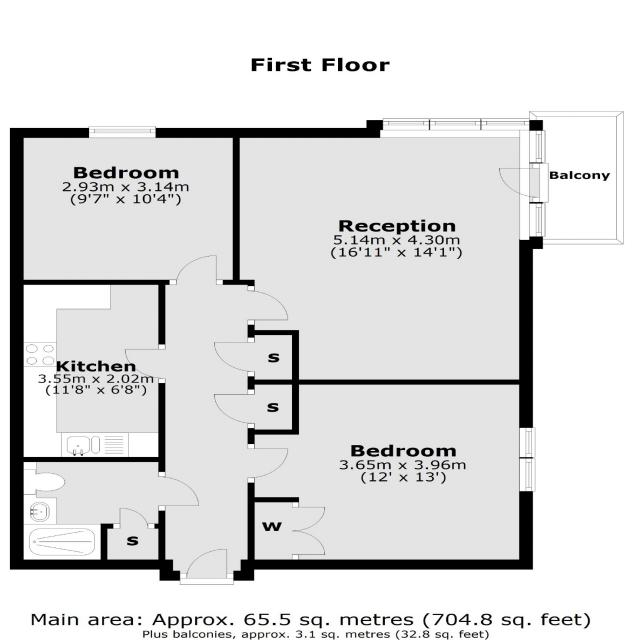DOOR: (497, 162, 550, 203), (179, 548, 235, 585), (121, 342, 166, 385), (168, 254, 224, 285), (247, 443, 289, 484), (158, 471, 200, 512), (248, 285, 289, 326)
ROOM: (232, 118, 550, 385), (240, 379, 536, 570), (9, 126, 240, 285), (9, 280, 166, 462)
WINDOW: (379, 118, 546, 163), (518, 427, 536, 492), (88, 126, 157, 139), (528, 202, 547, 238)
